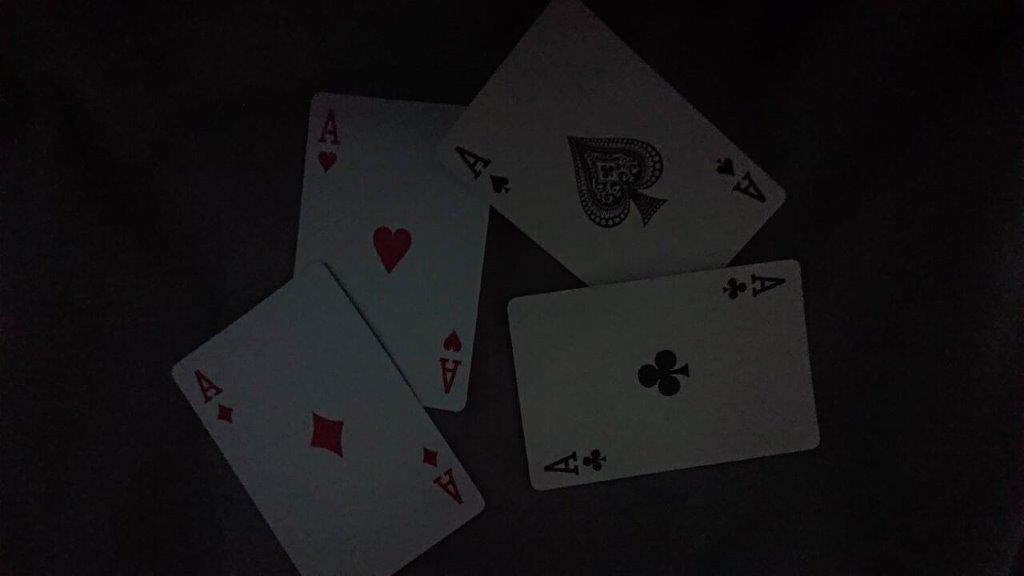AD: (182, 357, 243, 431)
AH: (310, 101, 350, 180)
AS: (447, 134, 520, 203)
